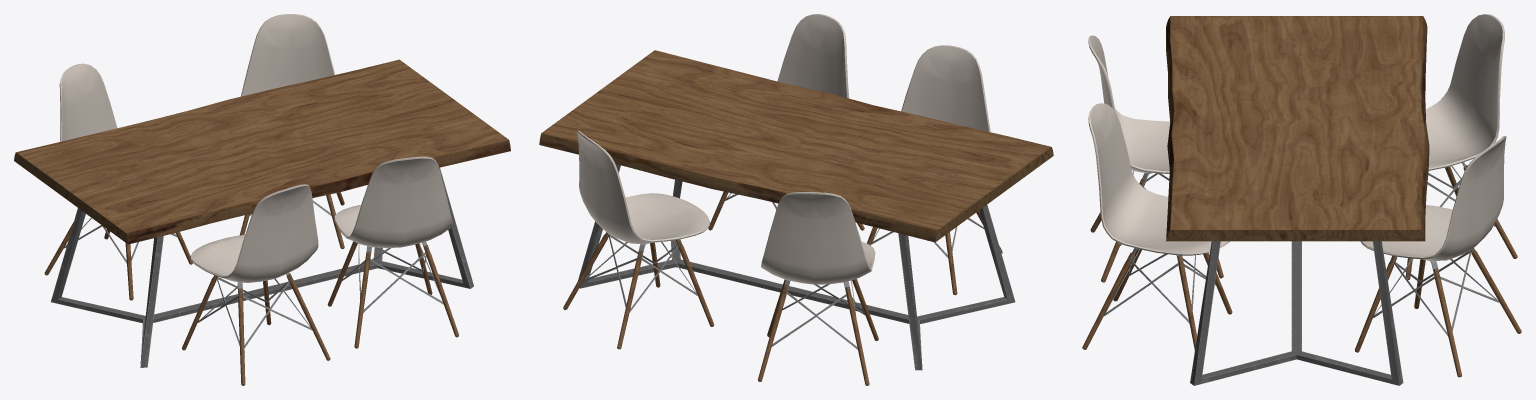
The model's file is SM_Hall_Table.fbx.
3 renders of one model, left to right at view 1: azimuth 30°, elevation 25°; view 2: azimuth 150°, elevation 25°; view 3: azimuth 270°, elevation 25°, orthographic. The views are drawn at different scales.
Visible parts, largest first — view 1: SM_Hall_Table; view 2: SM_Hall_Table; view 3: SM_Hall_Table.
Boxes of the visible parts, bbox=[...] form: SM_Hall_Table: bbox=[14, 14, 510, 385]; SM_Hall_Table: bbox=[539, 14, 1053, 385]; SM_Hall_Table: bbox=[1082, 14, 1521, 385].
Size of the model in its own units: 222 by 104 by 193.
Materials: 2 (2 with a texture image).
